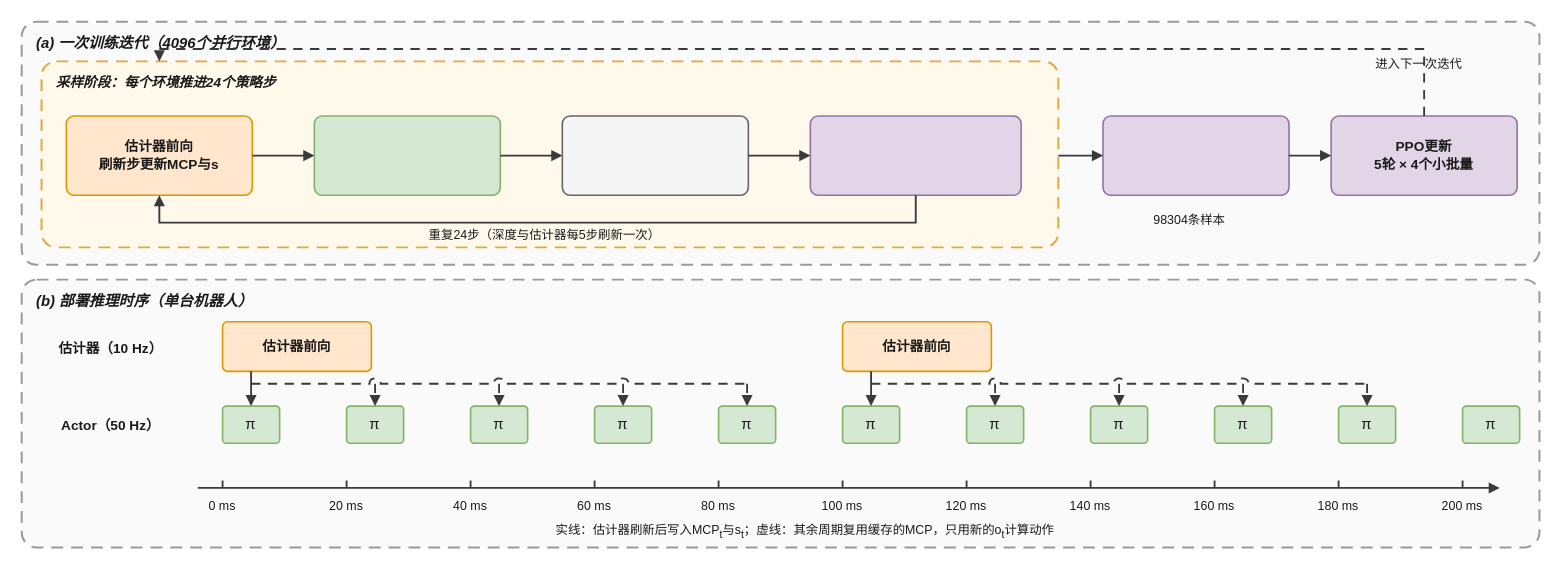
This 1562x570 diagram has some shape labels left out. The centre of each missing label's shape, as x and y in pixels:
Actor采样 a t Critic估计 V t: the point at 407,155
GAE计算 回报与优势: the point at 1195,155
刷新步：估计器 辅助损失 + Adam: the point at 915,155
环境推进20 ms （4个5 ms物理步）: the point at 655,155
